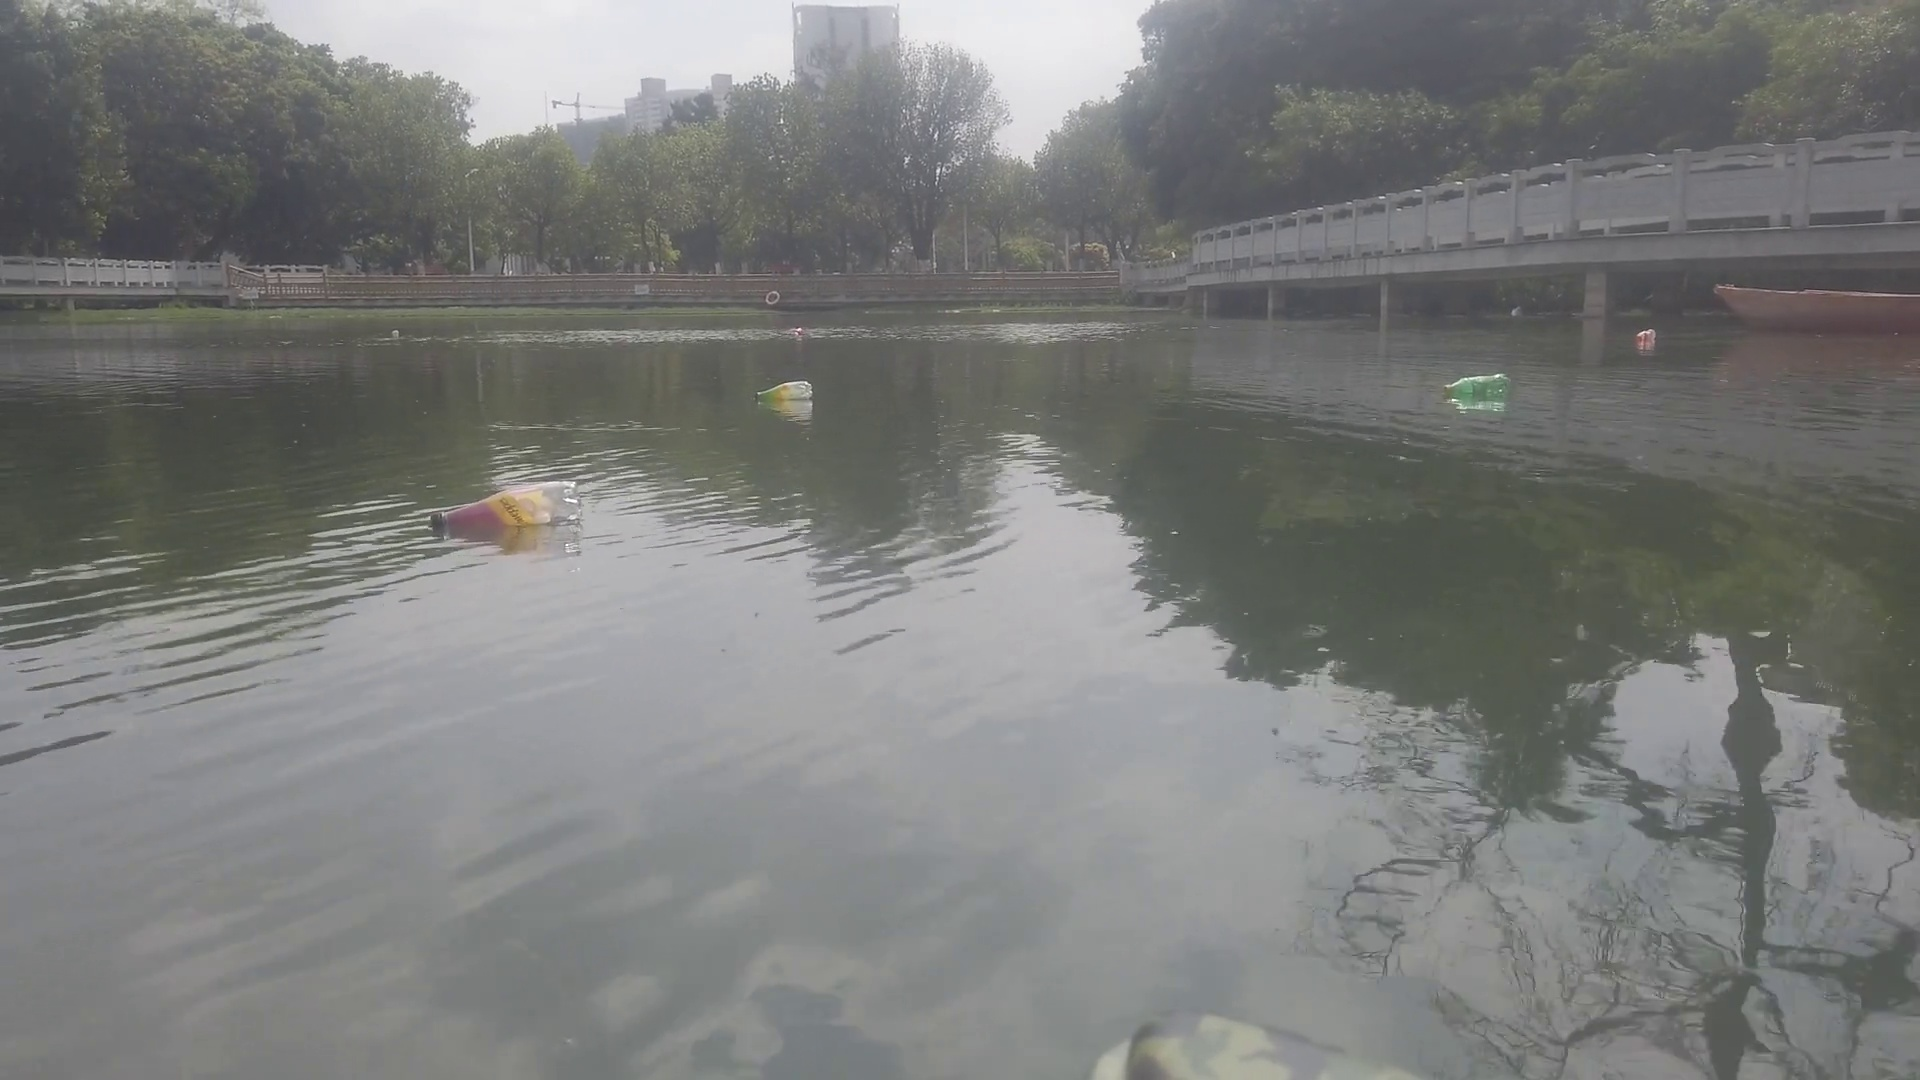bottle: (431, 477, 587, 529), (1444, 375, 1514, 398), (754, 382, 814, 405), (1631, 328, 1662, 344), (390, 324, 404, 340), (793, 323, 806, 338)
